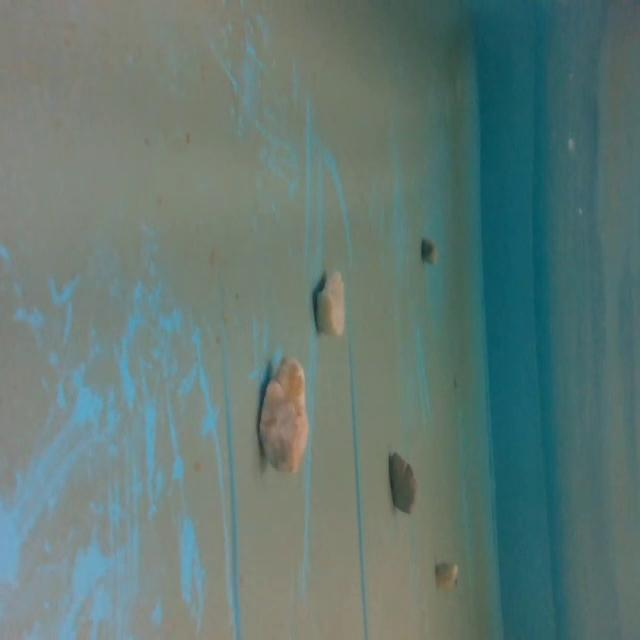rock: (255, 348, 318, 476), (309, 265, 348, 339), (383, 444, 421, 516), (430, 558, 459, 590), (418, 234, 436, 266)
